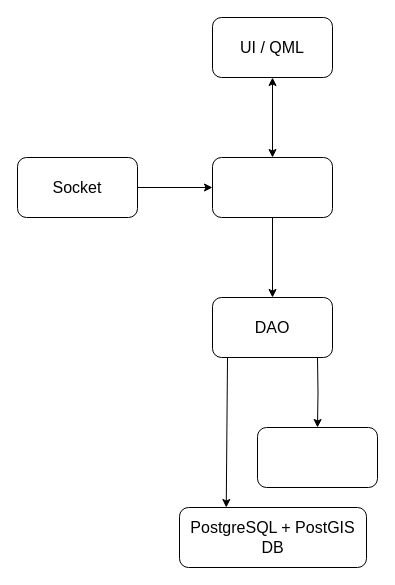
Some shapes in this 395 by 585 pixel diagram are drawn without their labels. The centre of each missing label's shape, as x and y in pixels:
Model: (317,457)
Provider: (272,187)
